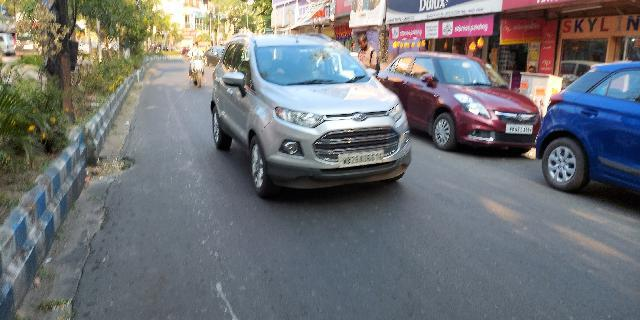Car: (210, 32, 413, 199), (378, 50, 538, 157), (532, 57, 640, 201)
Motorbike: (182, 39, 210, 84)
